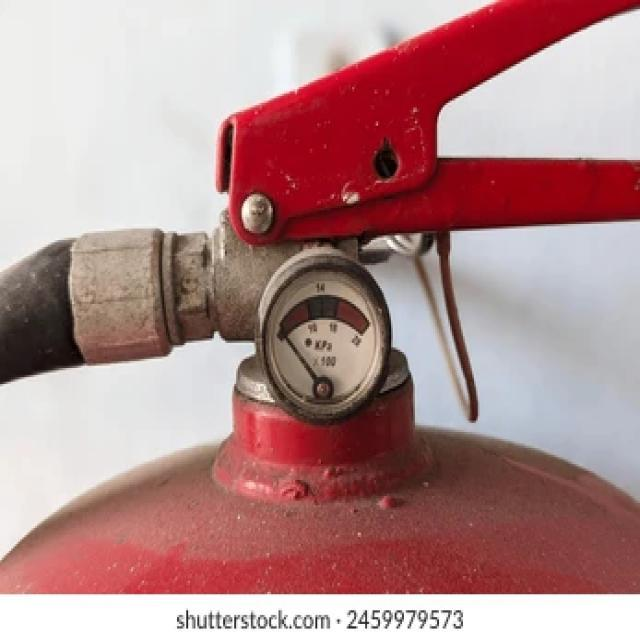pressure gauge: (256, 248, 390, 423)
